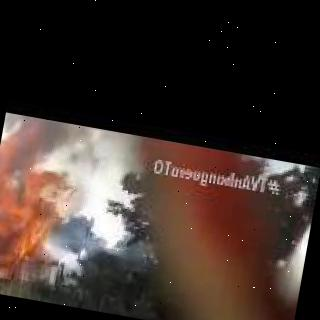fire: (0, 126, 80, 272), (0, 110, 105, 175)
